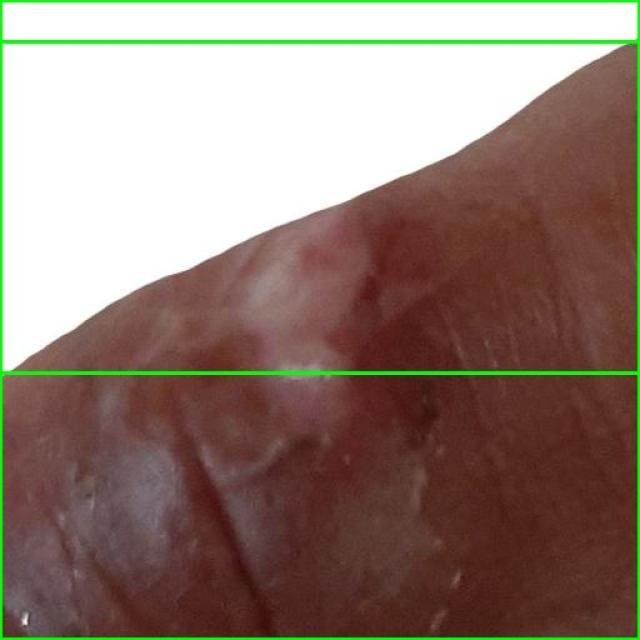Contact Dermatitis: (0, 41, 639, 639), (0, 0, 639, 372)
